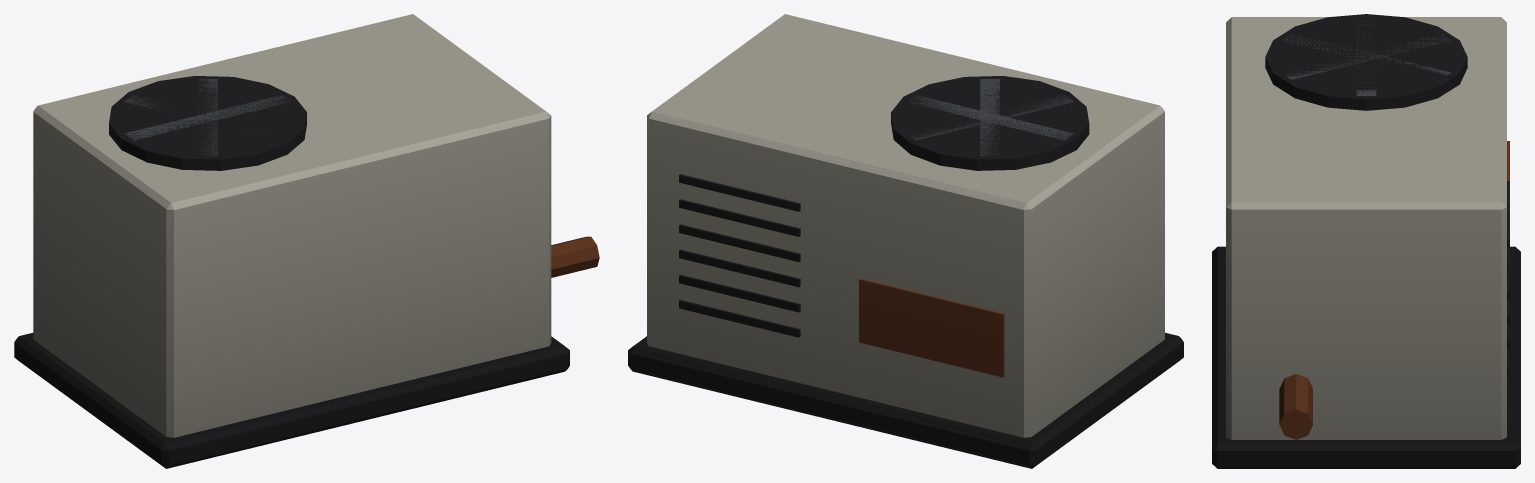
The model's file is ac_unit.glb.
3 renders of one model, left to right at view 1: azimuth 30°, elevation 25°; view 2: azimuth 150°, elevation 25°; view 3: azimuth 270°, elevation 25°, orthographic.
Visible parts, largest first — view 1: ac_unit; view 2: ac_unit; view 3: ac_unit.
Boxes of the visible parts, x1,y1,x2,y2 form: ac_unit: (14,14,599,468); ac_unit: (628,14,1183,468); ac_unit: (1212,14,1520,468).
Bounding box in the file's own units: 1.95 × 1.07 × 1.1.
